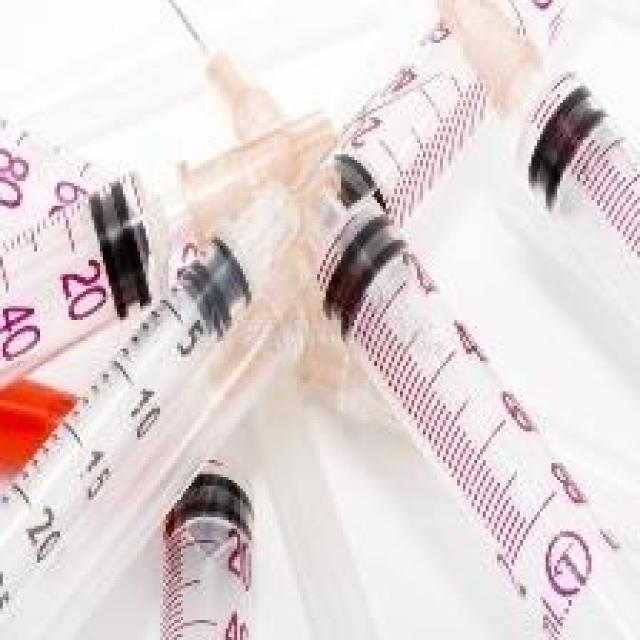syringe: (12, 25, 630, 640), (292, 193, 634, 640), (0, 153, 336, 265), (168, 385, 270, 640)
